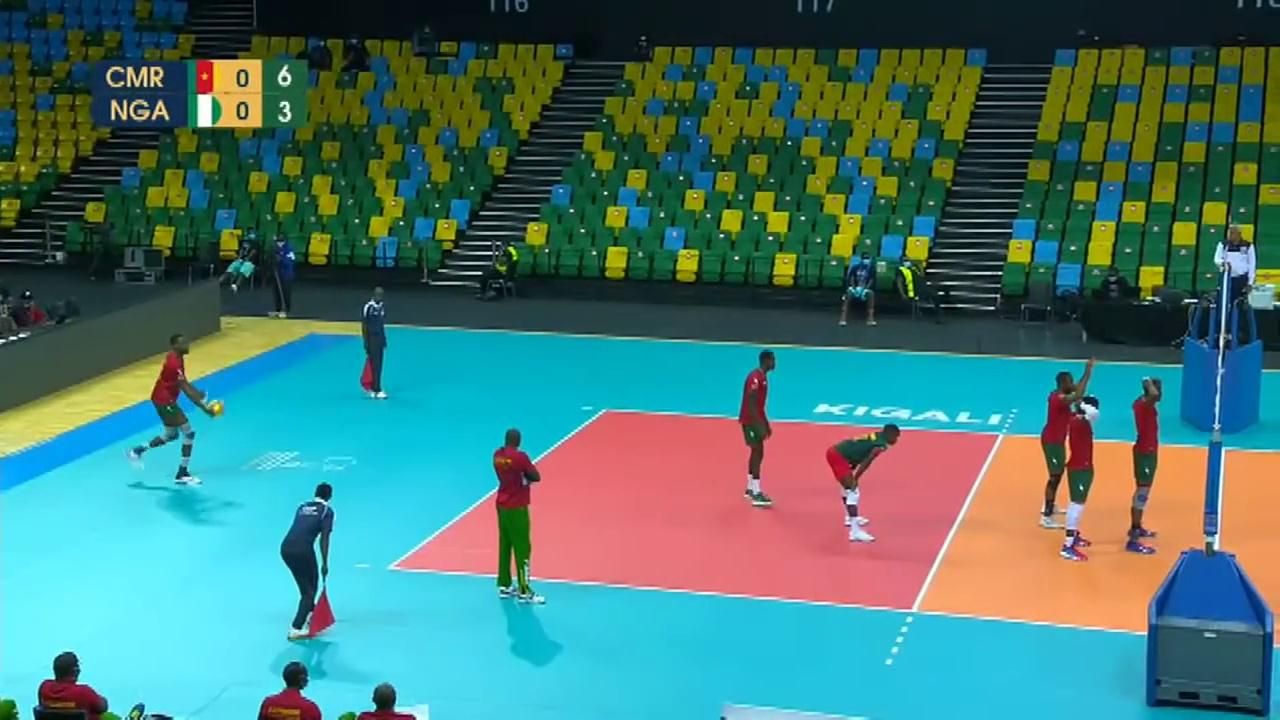player: (124, 329, 228, 484), (824, 421, 901, 546), (488, 431, 543, 599), (1041, 364, 1092, 528), (1061, 394, 1102, 571), (1129, 376, 1169, 554), (738, 354, 776, 502)
refree: (283, 486, 339, 633), (1214, 216, 1256, 345), (361, 286, 392, 399)
